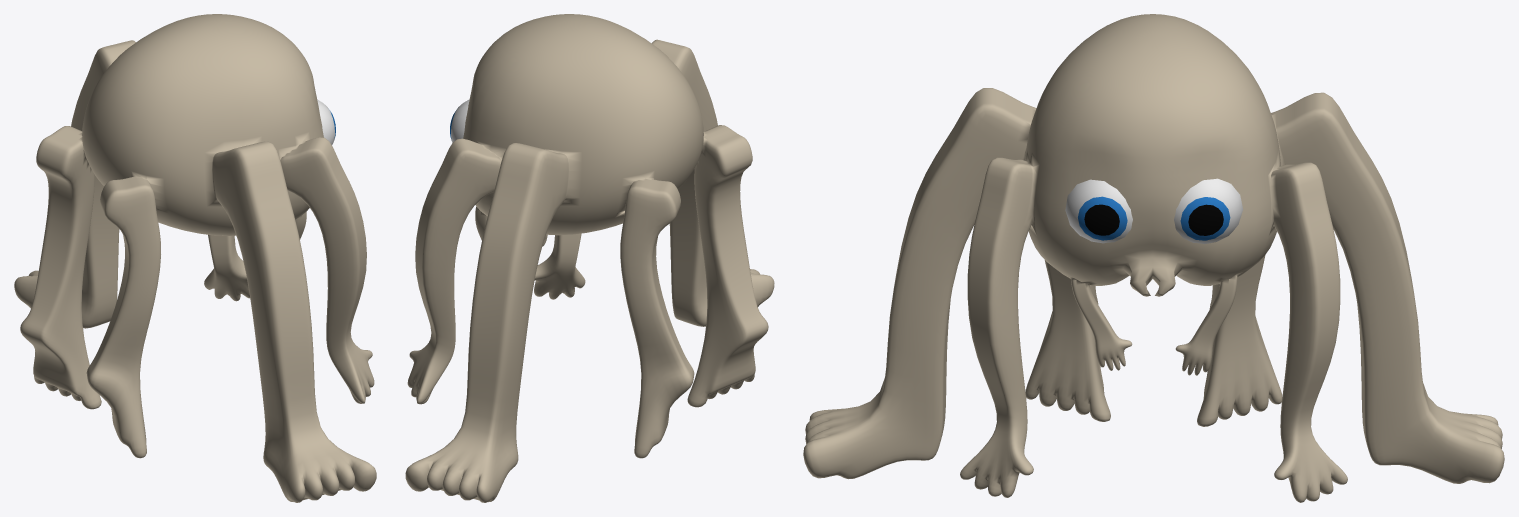
Rendered from monster hehe.fbx.
3 views of the same model, side by side, from view 1: azimuth 30°, elevation 25°; view 2: azimuth 150°, elevation 25°; view 3: azimuth 270°, elevation 25° (orthographic). The views are drawn at different scales.
Visible parts, largest first — view 1: Sphere.008; view 2: Sphere.008; view 3: Sphere.008.
Boxes of the visible parts, box(x1,y1,x2,y2) form: Sphere.008: box(14, 14, 376, 502); Sphere.008: box(405, 14, 774, 502); Sphere.008: box(803, 14, 1504, 502).
Size of the model in its own units: 318 by 423 by 603.
